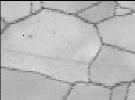good_void: (27, 32, 32, 38)
